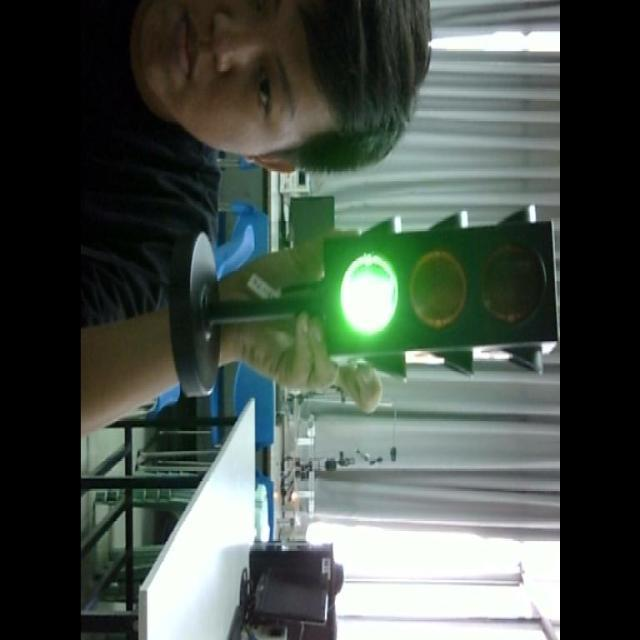green light: (330, 238, 408, 346)
